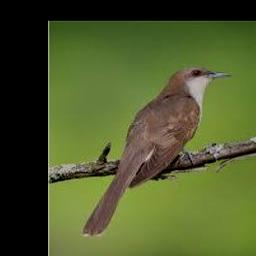Cuckoo: (83, 67, 232, 235)
